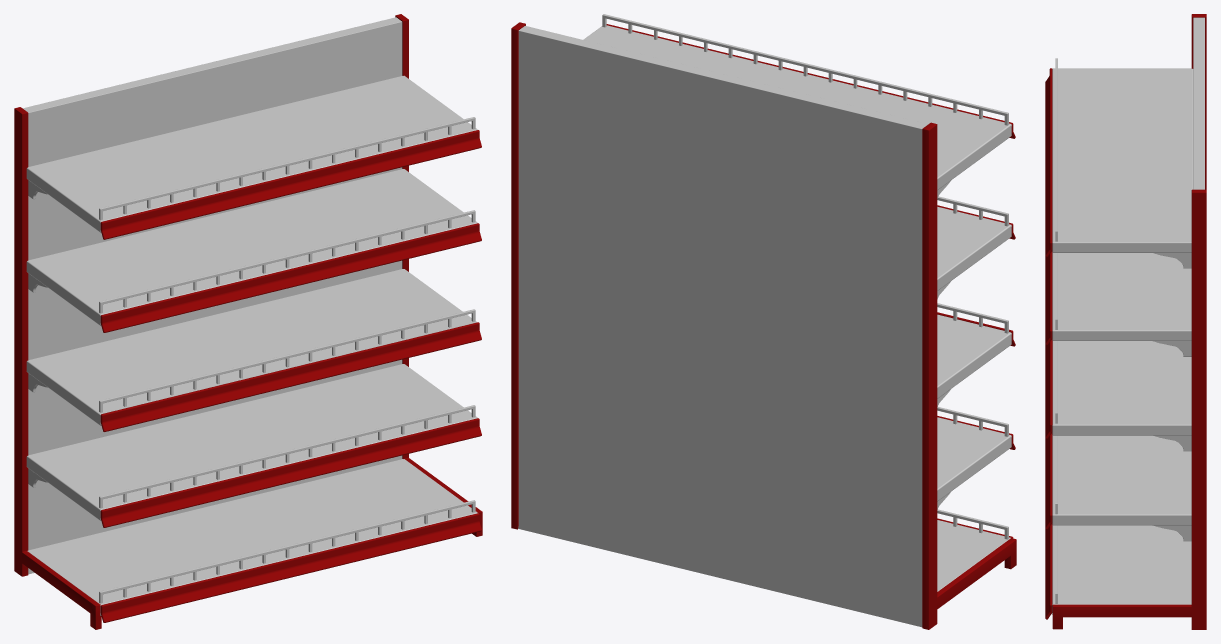
Rendered from red-shelf.mtl.obj.
3 renders of one model, left to right at view 1: azimuth 30°, elevation 25°; view 2: azimuth 150°, elevation 25°; view 3: azimuth 270°, elevation 25°, orthographic. The views are drawn at different scales.
Parts seen in each view (by area): view 1: Rack_1.002; view 2: Rack_1.002; view 3: Rack_1.002.
Boxes of the visible parts, x1=… form: Rack_1.002: x1=14, y1=14, x2=482, y2=629; Rack_1.002: x1=511, y1=14, x2=1016, y2=629; Rack_1.002: x1=1045, y1=14, x2=1206, y2=629.
Bounding box in the file's own units: 3.7 × 4.23 × 1.41.
